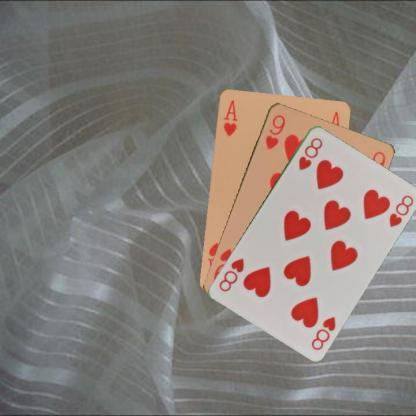8h: (308, 313, 337, 351), (296, 134, 324, 172)
9h: (262, 111, 287, 151)
Ah: (221, 97, 239, 138)
